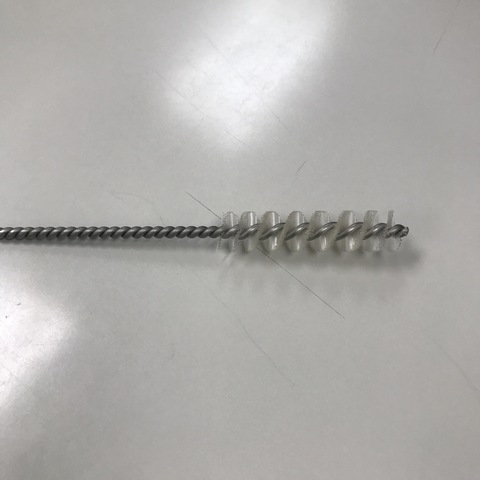Twist Brush-B: (1, 199, 414, 255)
